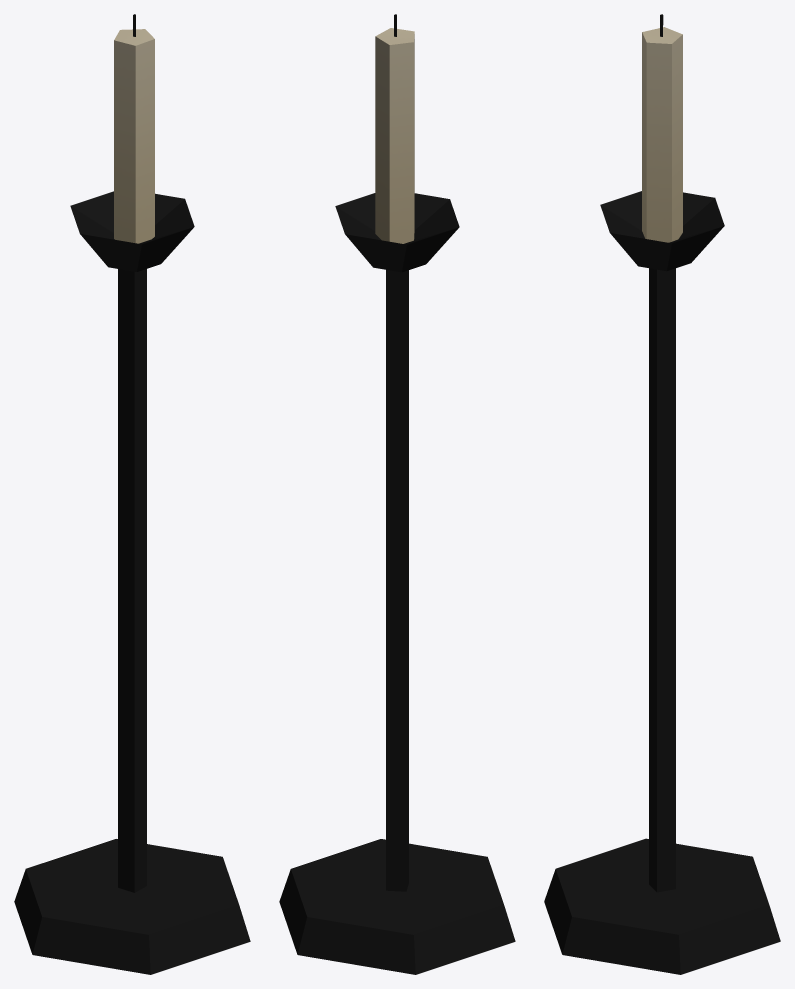
The model's file is Prop_Dojo_Candle.fbx.
The picture shows the model from 3 angles, left to right: view 1: azimuth 30°, elevation 25°; view 2: azimuth 150°, elevation 25°; view 3: azimuth 270°, elevation 25°; orthographic projection.
Parts seen in each view (by area): view 1: Prop_Dojo_Candle; view 2: Prop_Dojo_Candle; view 3: Prop_Dojo_Candle.
Boxes of the visible parts, <box> form: Prop_Dojo_Candle: <box>14,14,250,974</box>; Prop_Dojo_Candle: <box>279,14,515,974</box>; Prop_Dojo_Candle: <box>544,14,780,974</box>.
Size of the model in its own units: 26.2 by 104 by 24.58.
